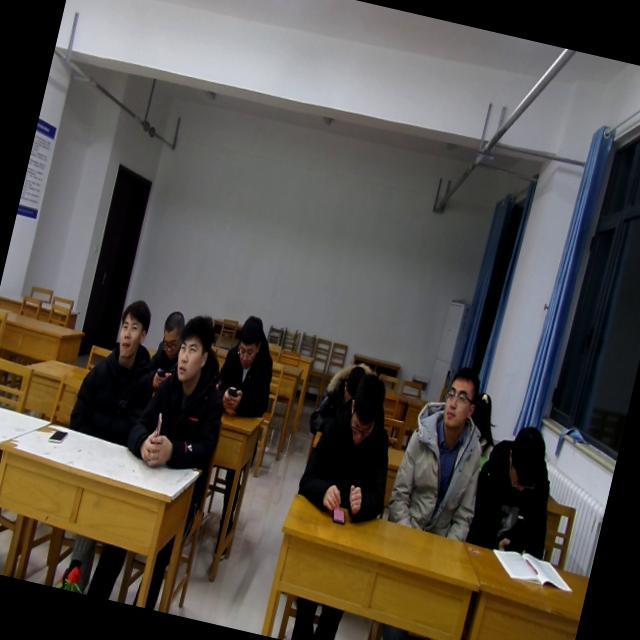bow: (210, 308, 288, 423), (306, 349, 378, 445), (144, 306, 192, 394)
down: (334, 362, 392, 454), (494, 420, 555, 500), (228, 307, 270, 373), (153, 300, 190, 362), (338, 357, 366, 403)
lookup: (166, 299, 222, 391), (431, 358, 486, 436), (108, 293, 156, 367)
sit: (381, 354, 508, 548), (122, 303, 245, 480), (294, 364, 412, 527), (66, 286, 172, 449), (462, 416, 570, 560)
